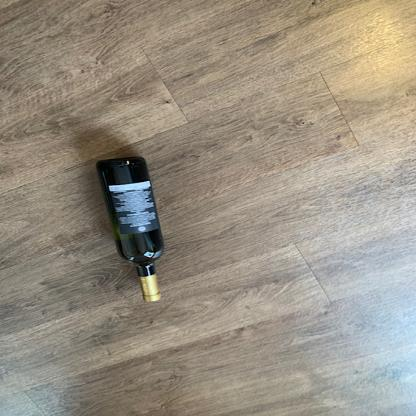trash: (93, 156, 178, 303)
